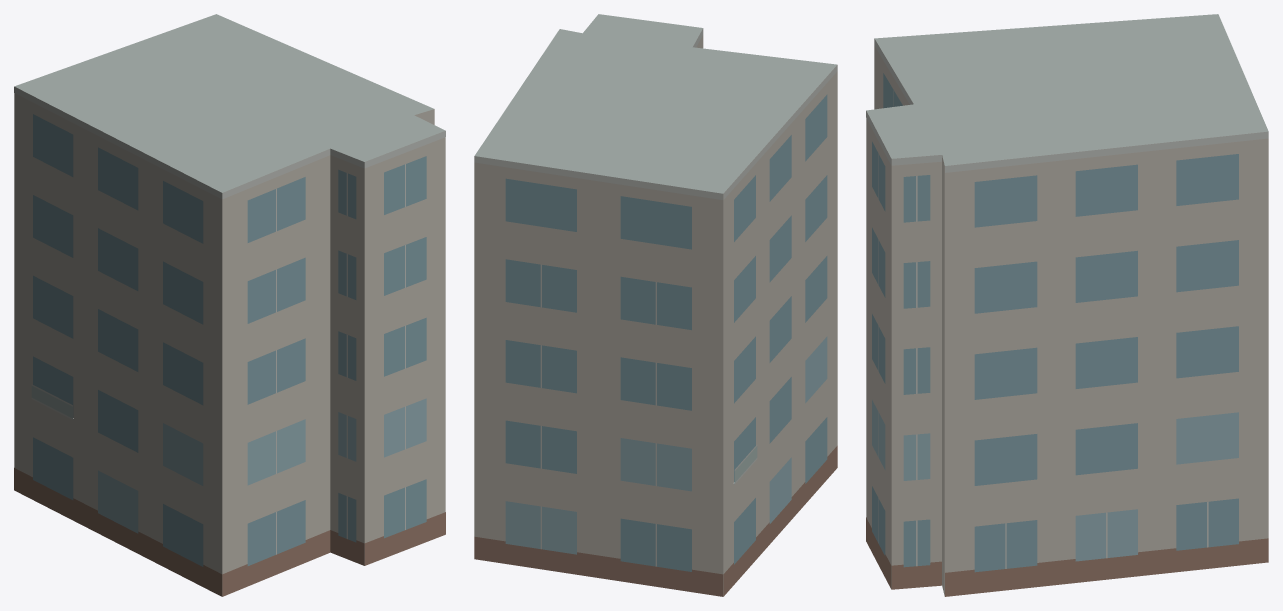
Rendered from survey-upis-32518040.glb.
The picture shows the model from 3 angles, left to right: view 1: azimuth 30°, elevation 25°; view 2: azimuth 150°, elevation 25°; view 3: azimuth 270°, elevation 25°; orthographic projection. The views are drawn at different scales.
Visible parts, largest first — view 1: survey-upis-32518040.tmp; view 2: survey-upis-32518040.tmp; view 3: survey-upis-32518040.tmp.
Part boxes in pixels (<box>): survey-upis-32518040.tmp: <box>14,14,445,596</box>; survey-upis-32518040.tmp: <box>474,14,837,596</box>; survey-upis-32518040.tmp: <box>866,14,1268,596</box>.
Bounding box in the file's own units: 11.56 × 15.25 × 12.93.
